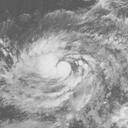cyclone: (4, 29, 101, 115)
